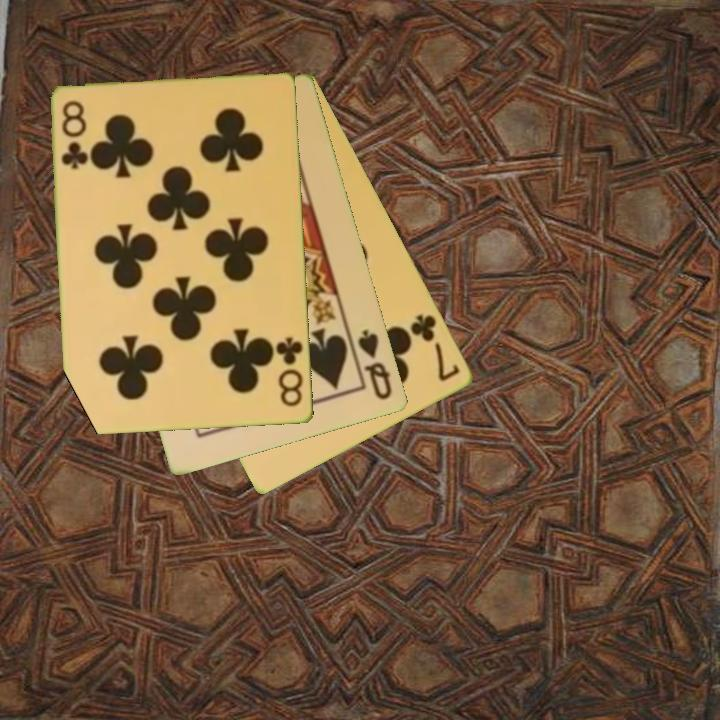7c: (407, 311, 464, 385)
8c: (273, 333, 307, 410), (58, 97, 90, 172)
Qs: (355, 326, 396, 403)
